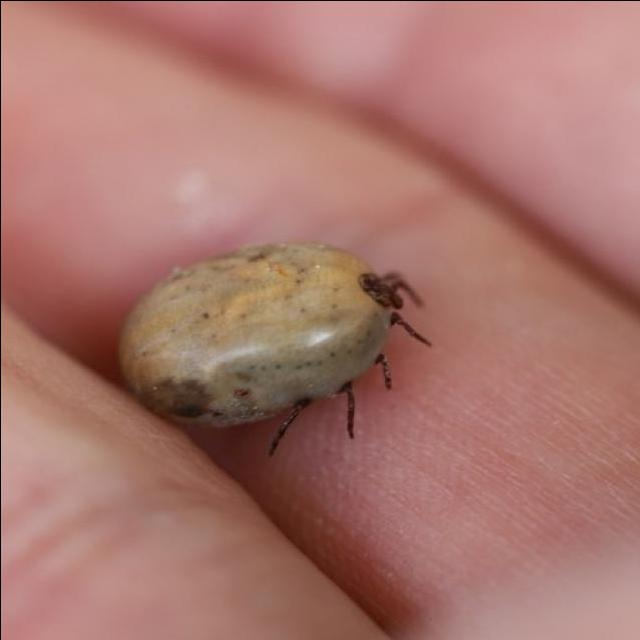Dermacentor Reticulatus-F-Fed: (115, 240, 431, 456)
